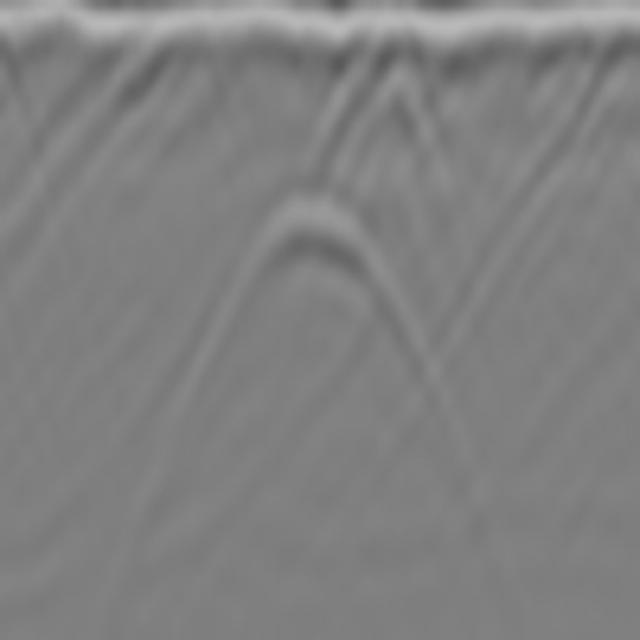hyperbola: (216, 182, 435, 420)
